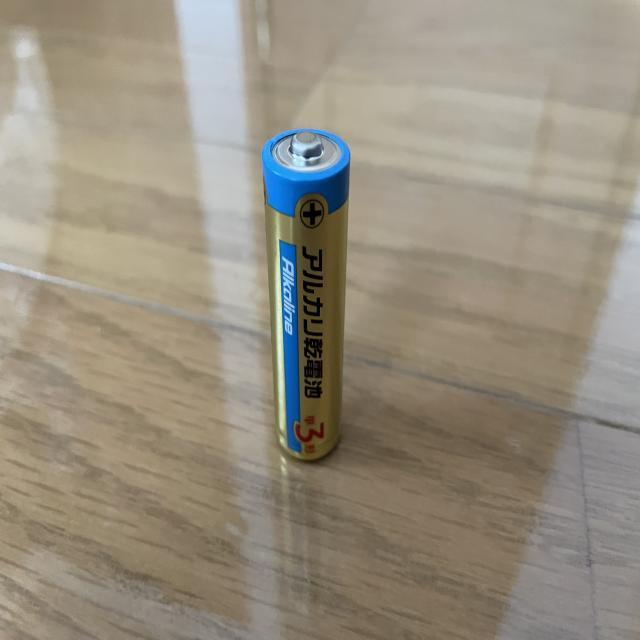battery: (261, 119, 357, 466)
